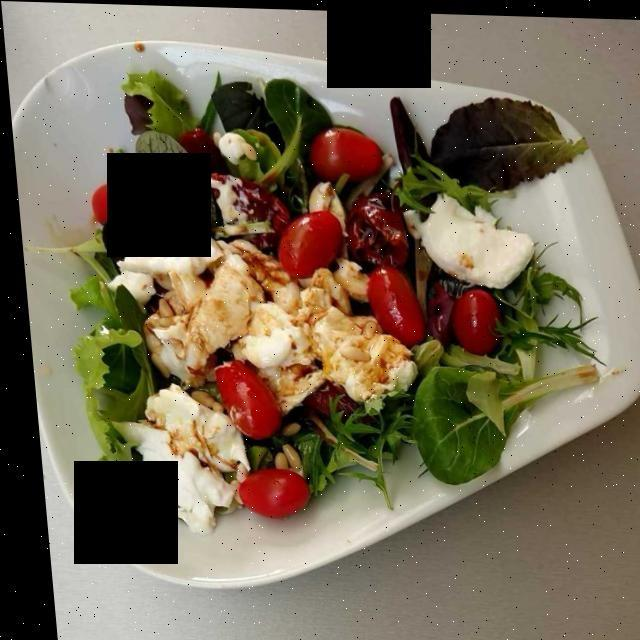salad: (73, 66, 588, 521)
